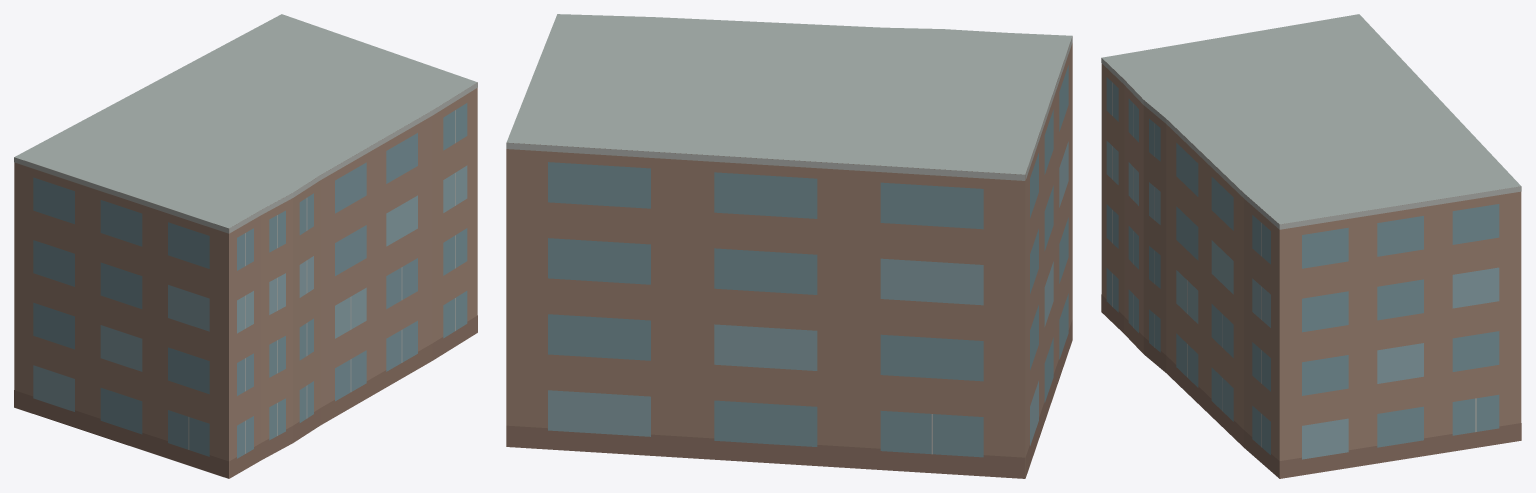
File: survey-upis-32739752.glb
3 views of the same model, side by side, from view 1: azimuth 30°, elevation 25°; view 2: azimuth 150°, elevation 25°; view 3: azimuth 270°, elevation 25° (orthographic). The views are drawn at different scales.
Visible parts, largest first — view 1: survey-upis-32739752.tmp; view 2: survey-upis-32739752.tmp; view 3: survey-upis-32739752.tmp.
Boxes of the visible parts, box(x1,y1,x2,y2) form: survey-upis-32739752.tmp: box(14, 14, 477, 478); survey-upis-32739752.tmp: box(506, 14, 1072, 478); survey-upis-32739752.tmp: box(1101, 14, 1521, 478).
Bounding box in the file's own units: 20.77 × 11.7 × 17.51.
